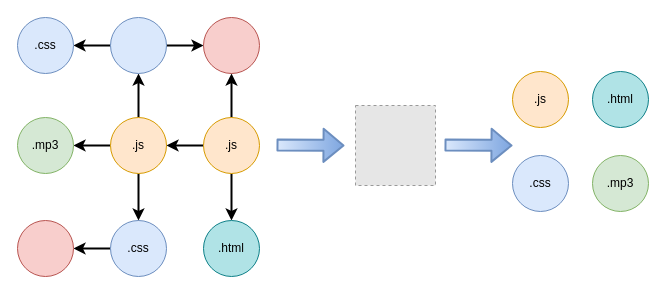
This 666x294 diagram has some shape labels left out. Grey dashed boxes stand in for pictures. The shapes that lost their labels are listed below. From the top down, each one's box as (x1, y1, x2, y2) in pixels, then its label:
(110, 16, 166, 74): .less
(202, 16, 260, 74): .png
(16, 220, 74, 276): .gif
